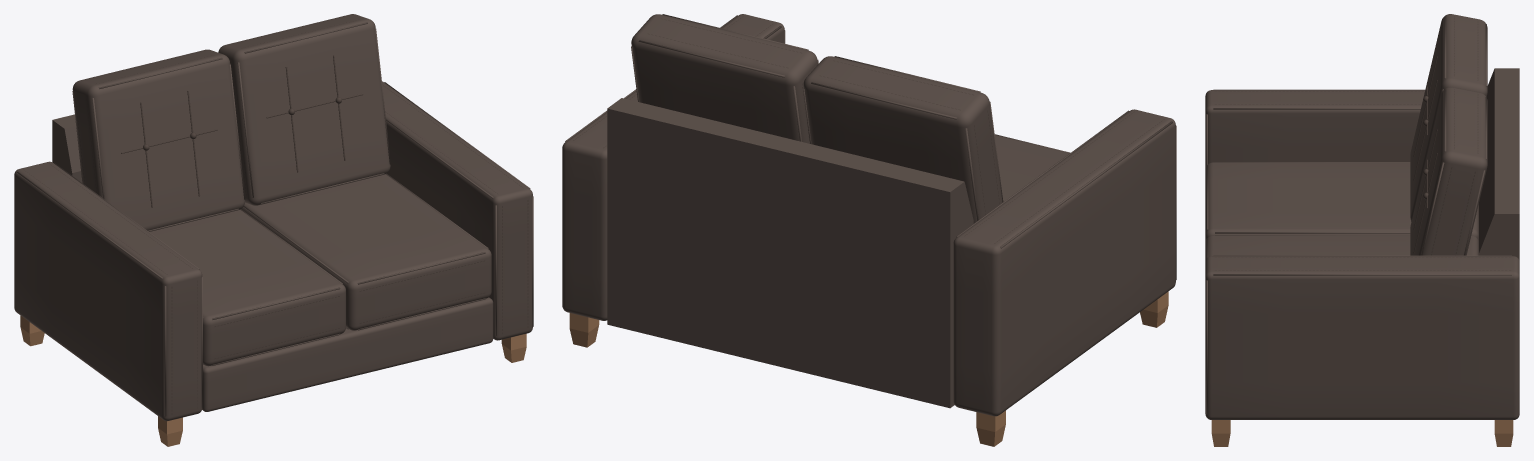
The model's file is benza_140x100.glb.
3 views of the same model, side by side, from view 1: azimuth 30°, elevation 25°; view 2: azimuth 150°, elevation 25°; view 3: azimuth 270°, elevation 25° (orthographic). The views are drawn at different scales.
Parts seen in each view (by area): view 1: p1, p2, p0; view 2: p1, p0, p2; view 3: p1, p2, p0.
Part boxes in pixels (x1=…): p1: x1=14, y1=14, x2=533, y2=421; p2: x1=23, y1=15, x2=528, y2=414; p0: x1=20, y1=315, x2=526, y2=446; p1: x1=562, y1=14, x2=1176, y2=416; p0: x1=569, y1=291, x2=1168, y2=446; p2: x1=573, y1=16, x2=1164, y2=243; p1: x1=1205, y1=14, x2=1519, y2=419; p2: x1=1215, y1=16, x2=1510, y2=270; p0: x1=1211, y1=420, x2=1513, y2=446.
Size of the model in its own units: 1.4 by 0.9642 by 1.
Materials: 3 (2 with a texture image).
